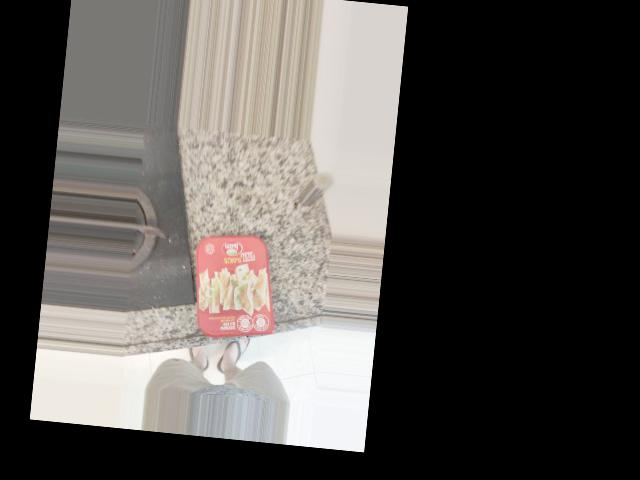cheese: (174, 176, 272, 294)
